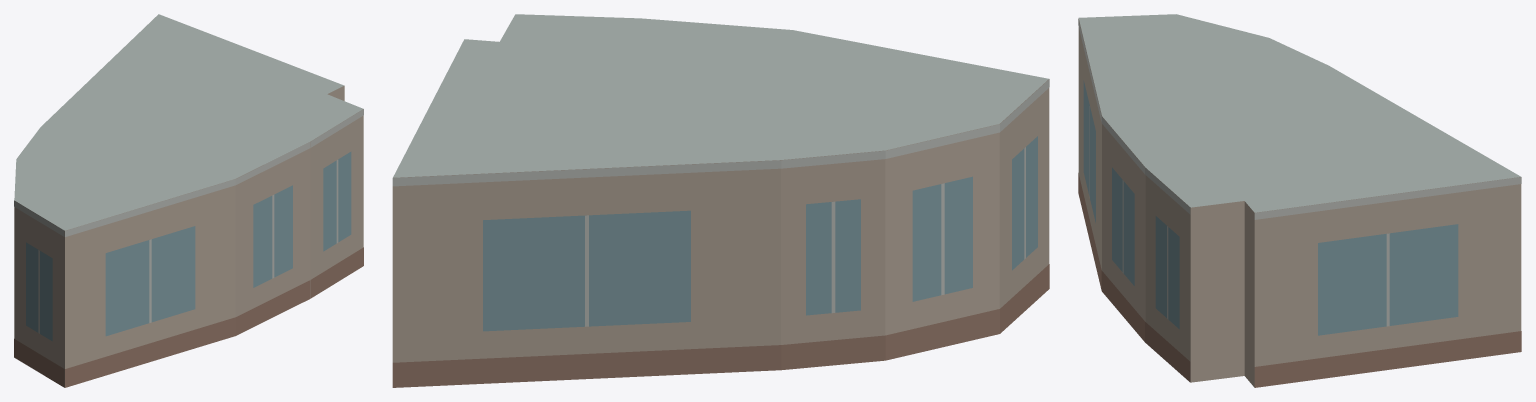
File: survey-upis-32688564.glb
3 renders of one model, left to right at view 1: azimuth 30°, elevation 25°; view 2: azimuth 150°, elevation 25°; view 3: azimuth 270°, elevation 25°, orthographic. The views are drawn at different scales.
Visible parts, largest first — view 1: survey-upis-32688564.tmp; view 2: survey-upis-32688564.tmp; view 3: survey-upis-32688564.tmp.
Part boxes in pixels (x1,y1,x2,y2): survey-upis-32688564.tmp: (14,14,363,387); survey-upis-32688564.tmp: (392,14,1049,387); survey-upis-32688564.tmp: (1078,14,1521,387).
Size of the model in its own units: 7.44 by 3.05 by 7.
